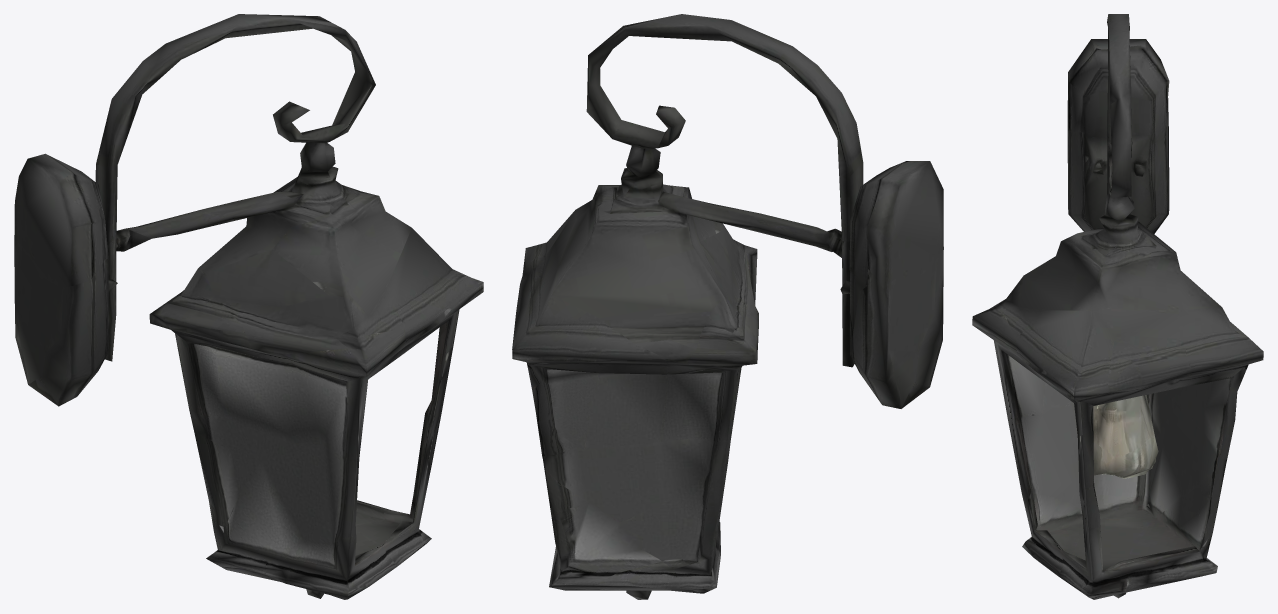
Rendered from lantern_lod1.glb.
The picture shows the model from 3 angles, left to right: view 1: azimuth 30°, elevation 25°; view 2: azimuth 150°, elevation 25°; view 3: azimuth 270°, elevation 25°; orthographic projection. The views are drawn at different scales.
Visible parts, largest first — view 1: tripo_node_d0acc25a-cbff-4f93-b70c-04f4e6ec9c09; view 2: tripo_node_d0acc25a-cbff-4f93-b70c-04f4e6ec9c09; view 3: tripo_node_d0acc25a-cbff-4f93-b70c-04f4e6ec9c09.
Boxes of the visible parts, <box> form: tripo_node_d0acc25a-cbff-4f93-b70c-04f4e6ec9c09: <box>14,14,483,599</box>; tripo_node_d0acc25a-cbff-4f93-b70c-04f4e6ec9c09: <box>512,14,943,599</box>; tripo_node_d0acc25a-cbff-4f93-b70c-04f4e6ec9c09: <box>972,14,1263,599</box>.
Size of the model in its own units: 0.3638 by 0.4997 by 0.249.
1 material, 1 textured.
